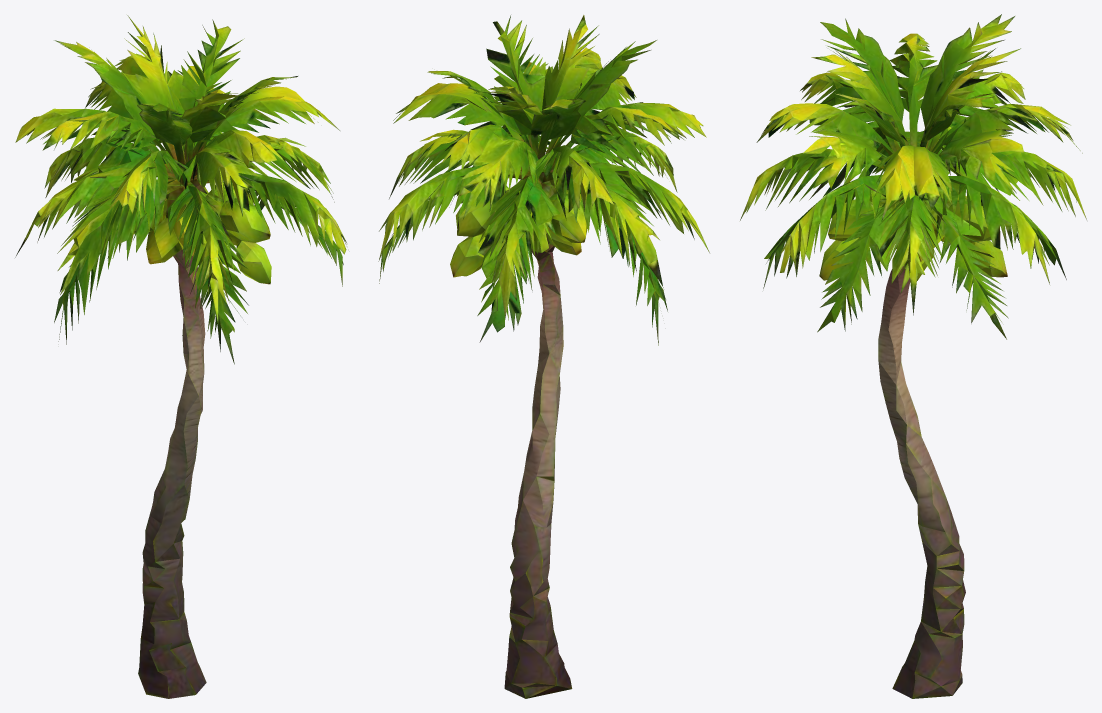
The model's file is palm-tall.lod.glb.
3 views of the same model, side by side, from view 1: azimuth 30°, elevation 25°; view 2: azimuth 150°, elevation 25°; view 3: azimuth 270°, elevation 25° (orthographic).
Size of the model in its own units: 0.9307 by 1.88 by 0.9298.
Materials: 1 (1 with a texture image).
